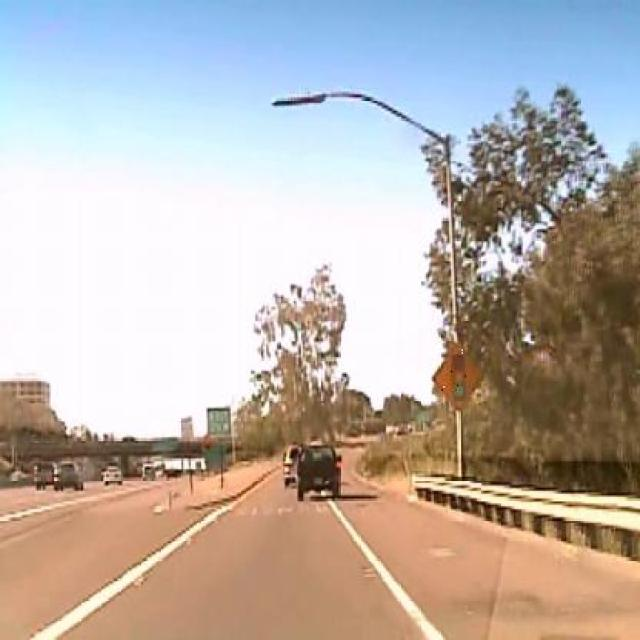signalAhead: (431, 338, 483, 411)
